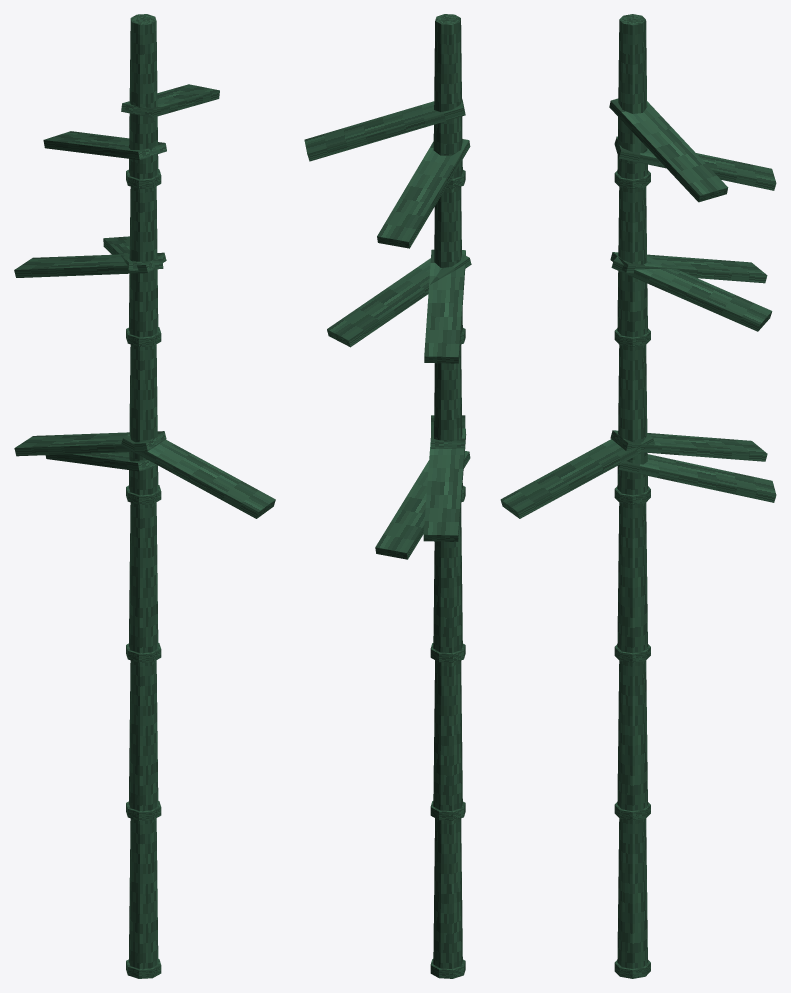
Rendered from bamboo_42.glb.
The picture shows the model from 3 angles, left to right: view 1: azimuth 30°, elevation 25°; view 2: azimuth 150°, elevation 25°; view 3: azimuth 270°, elevation 25°; orthographic projection.
Parts seen in each view (by area): view 1: Stem.001, Stem.002, Stem, Stem.005, Stem.004, Leaf.005, Stem.003, Leaf.006, Leaf, Leaf.002, Leaf.001, Leaf.004 (+1 smaller); view 2: Stem, Stem.001, Leaf.002, Stem.005, Leaf.003, Leaf.001, Leaf.006, Leaf, Stem.002, Leaf.004, Stem.003, Stem.004 (+4 smaller); view 3: Stem, Stem.001, Stem.002, Leaf.001, Stem.004, Stem.005, Leaf.005, Stem.003, Leaf.003, Leaf.004, Leaf.006, Leaf (+1 smaller).
Boxes of the visible parts, x1,y1,x2,y2 form: Stem.001: [129, 660, 158, 810]; Stem.002: [129, 502, 158, 652]; Stem: [129, 818, 158, 968]; Stem.005: [129, 14, 158, 179]; Stem.004: [129, 186, 158, 337]; Leaf.005: [121, 433, 275, 518]; Stem.003: [129, 344, 158, 495]; Leaf.006: [14, 431, 166, 456]; Leaf: [14, 252, 166, 277]; Leaf.002: [43, 131, 166, 159]; Leaf.001: [121, 84, 219, 117]; Leaf.004: [45, 452, 157, 471]; Stem: [433, 818, 462, 968]; Stem.001: [433, 660, 462, 810]; Leaf.002: [377, 139, 470, 248]; Stem.005: [433, 14, 462, 179]; Leaf.003: [327, 254, 471, 347]; Leaf.001: [304, 99, 465, 161]; Leaf.006: [423, 428, 466, 541]; Leaf: [424, 249, 465, 363]; Stem.002: [433, 503, 462, 653]; Leaf.004: [375, 451, 470, 559]; Stem.003: [434, 344, 462, 489]; Stem.004: [434, 186, 462, 333]; Stem: [617, 818, 647, 968]; Stem.001: [617, 660, 647, 810]; Stem.002: [617, 503, 647, 653]; Leaf.001: [609, 98, 728, 202]; Stem.004: [617, 187, 647, 337]; Stem.005: [617, 14, 647, 179]; Leaf.005: [500, 434, 655, 518]; Stem.003: [617, 345, 647, 495]; Leaf.003: [611, 256, 772, 331]; Leaf.004: [617, 454, 776, 502]; Leaf.006: [610, 430, 767, 461]; Leaf: [610, 252, 767, 283].
Size of the model in its own units: 1.09 by 5.48 by 1.44.
1 material, 1 textured.
